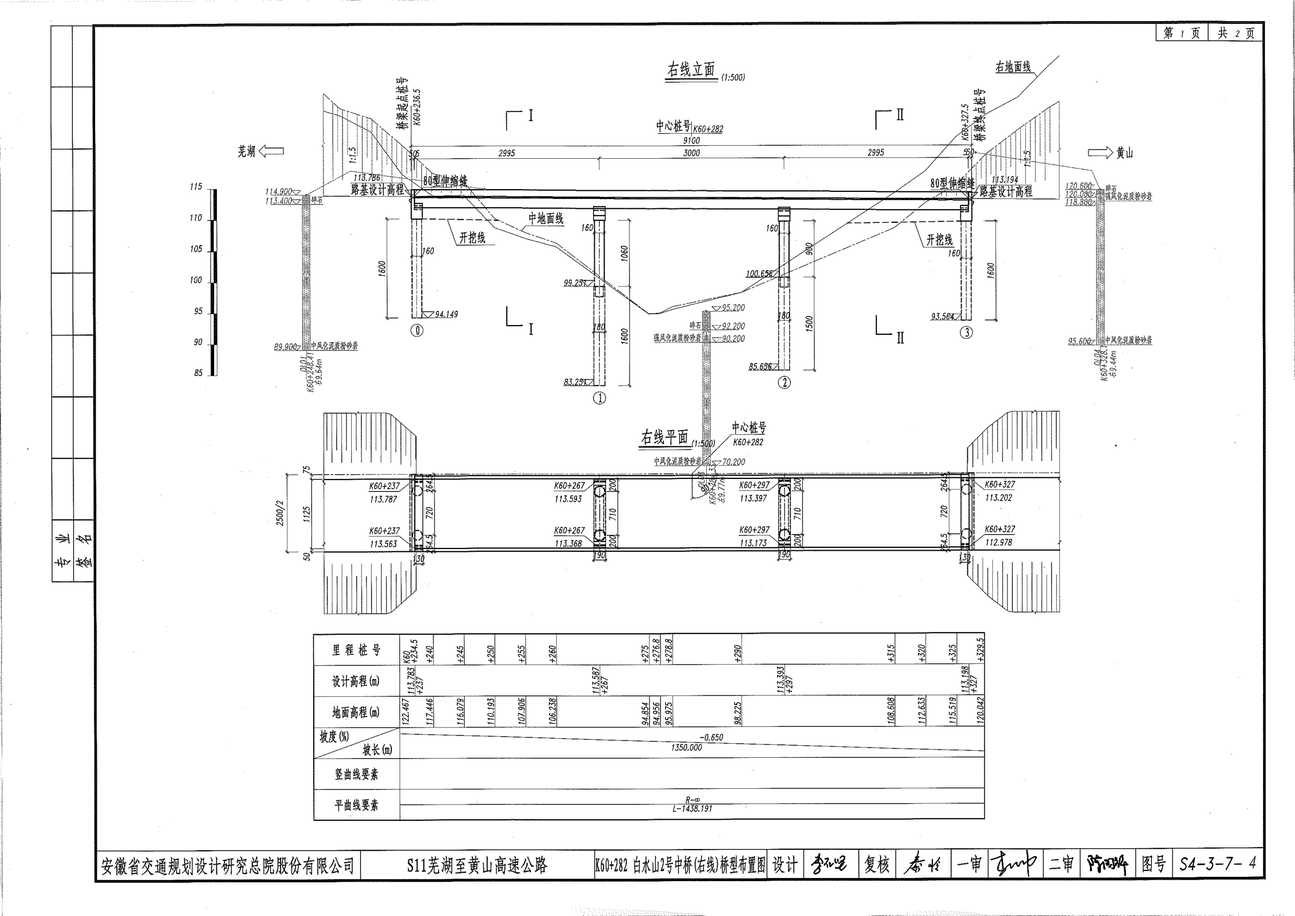A: (210, 56, 1144, 418)
